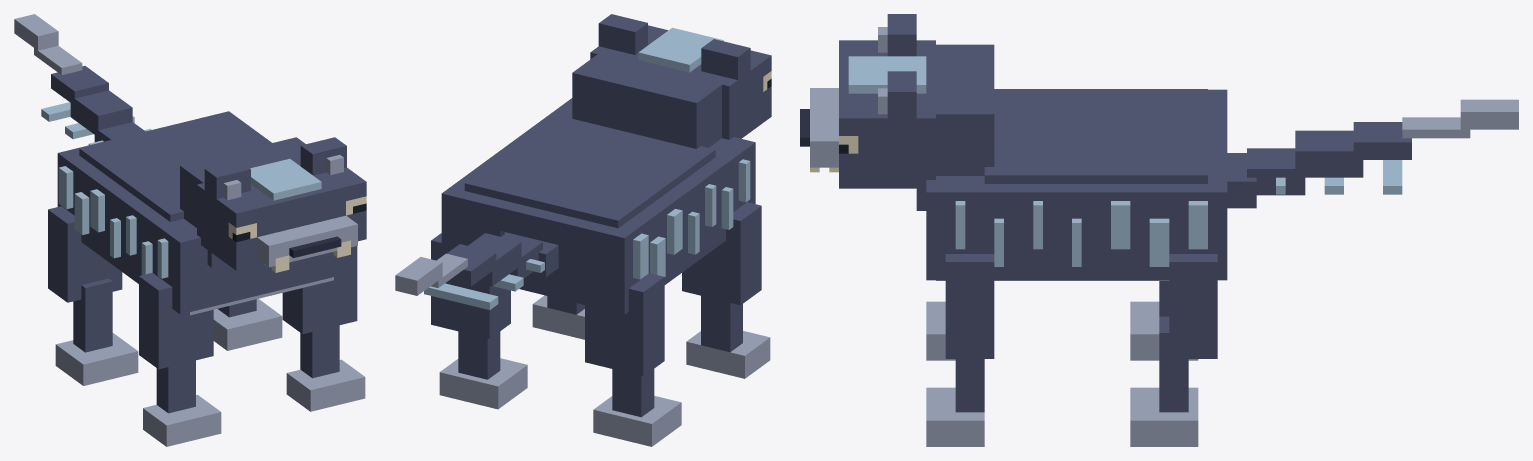
Rendered from phase_stalker.glb.
The picture shows the model from 3 angles, left to right: view 1: azimuth 30°, elevation 25°; view 2: azimuth 150°, elevation 25°; view 3: azimuth 270°, elevation 25°; orthographic projection. The views are drawn at different scales.
Parts seen in each view (by area): view 1: phase_stalker/thorax, phase_stalker/head, phase_stalker/left_foreleg, phase_stalker/left_hindleg, phase_stalker/right_foreleg, phase_stalker/tail, phase_stalker/neck, phase_stalker/right_hindleg, phase_stalker/head_ear_l, phase_stalker/head_ear_r; view 2: phase_stalker/thorax, phase_stalker/neck, phase_stalker/left_hindleg, phase_stalker/left_foreleg, phase_stalker/right_hindleg, phase_stalker/tail, phase_stalker/head, phase_stalker/right_foreleg, phase_stalker/head_ear_l, phase_stalker/head_ear_r; view 3: phase_stalker/thorax, phase_stalker/head, phase_stalker/tail, phase_stalker/right_hindleg, phase_stalker/right_foreleg, phase_stalker/neck, phase_stalker/left_hindleg, phase_stalker/head_ear_r, phase_stalker/head_ear_l, phase_stalker/left_foreleg.
Boxes of the visible parts, box(x1,y1,x2,y2) form: phase_stalker/thorax: box(57, 111, 351, 315); phase_stalker/head: box(197, 158, 366, 272); phase_stalker/left_foreleg: box(139, 273, 221, 446); phase_stalker/left_hindleg: box(48, 206, 138, 385); phase_stalker/right_foreleg: box(282, 246, 365, 411); phase_stalker/tail: box(14, 14, 151, 145); phase_stalker/neck: box(180, 137, 305, 267); phase_stalker/right_hindleg: box(213, 299, 282, 350); phase_stalker/head_ear_l: box(204, 160, 250, 205); phase_stalker/head_ear_r: box(300, 137, 346, 175); phase_stalker/thorax: box(441, 98, 755, 314); phase_stalker/neck: box(572, 48, 729, 148); phase_stalker/left_hindleg: box(585, 273, 681, 446); phase_stalker/left_foreleg: box(682, 202, 770, 378); phase_stalker/right_hindleg: box(431, 233, 527, 409); phase_stalker/tail: box(395, 231, 558, 309); phase_stalker/head: box(590, 25, 771, 139); phase_stalker/right_foreleg: box(532, 295, 584, 339); phase_stalker/head_ear_l: box(701, 39, 750, 79); phase_stalker/head_ear_r: box(598, 14, 647, 54); phase_stalker/thorax: box(926, 89, 1227, 280); phase_stalker/head: box(800, 40, 935, 188); phase_stalker/tail: box(1227, 99, 1518, 208); phase_stalker/right_hindleg: box(1130, 254, 1217, 446); phase_stalker/right_foreleg: box(926, 254, 994, 446); phase_stalker/neck: box(916, 44, 994, 210); phase_stalker/left_hindleg: box(1130, 281, 1198, 360); phase_stalker/head_ear_r: box(878, 71, 916, 127); phase_stalker/head_ear_l: box(878, 14, 916, 56); phase_stalker/left_foreleg: box(926, 301, 955, 360).
Size of the model in its own units: 0.9062 by 1.19 by 2.31.
